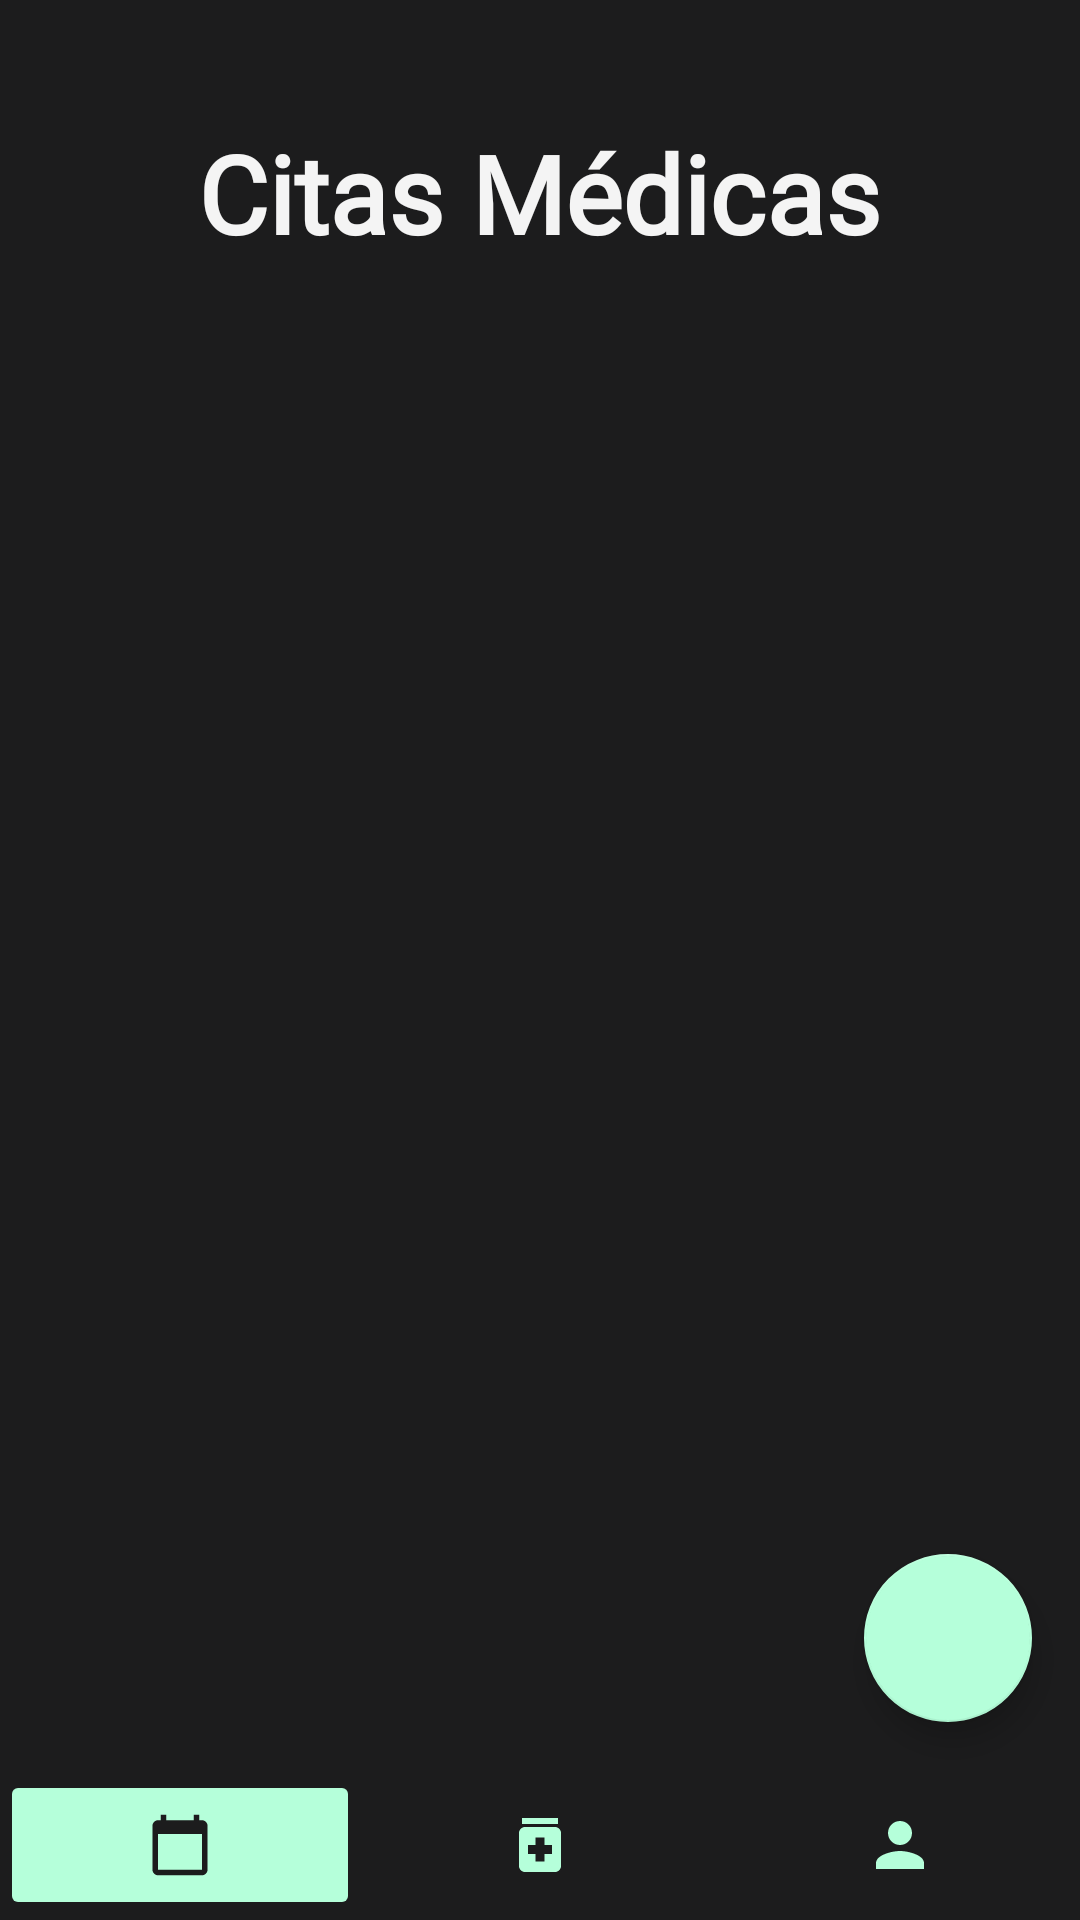

Screen size 1080 x 1920. Icon name, then its box in pixels as rect(x1, y1, x2, y2):
Citas Médicas: rect(12, 1788, 348, 1902)
Medicamentos: rect(519, 1818, 561, 1872)
Ver perfil: rect(876, 1821, 924, 1869)
